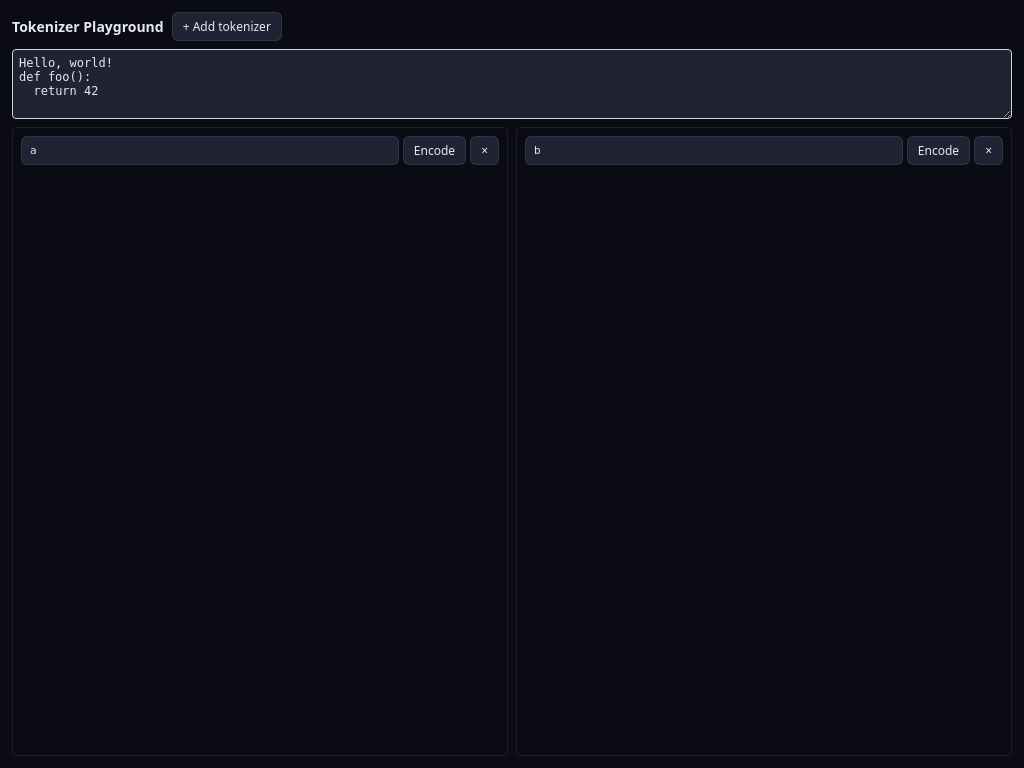
TokenizerPlayground › Remove drops a panel
Click the button with test id "tokenizer-remove-0". click: (485, 150)
box: [470,136,499,165]
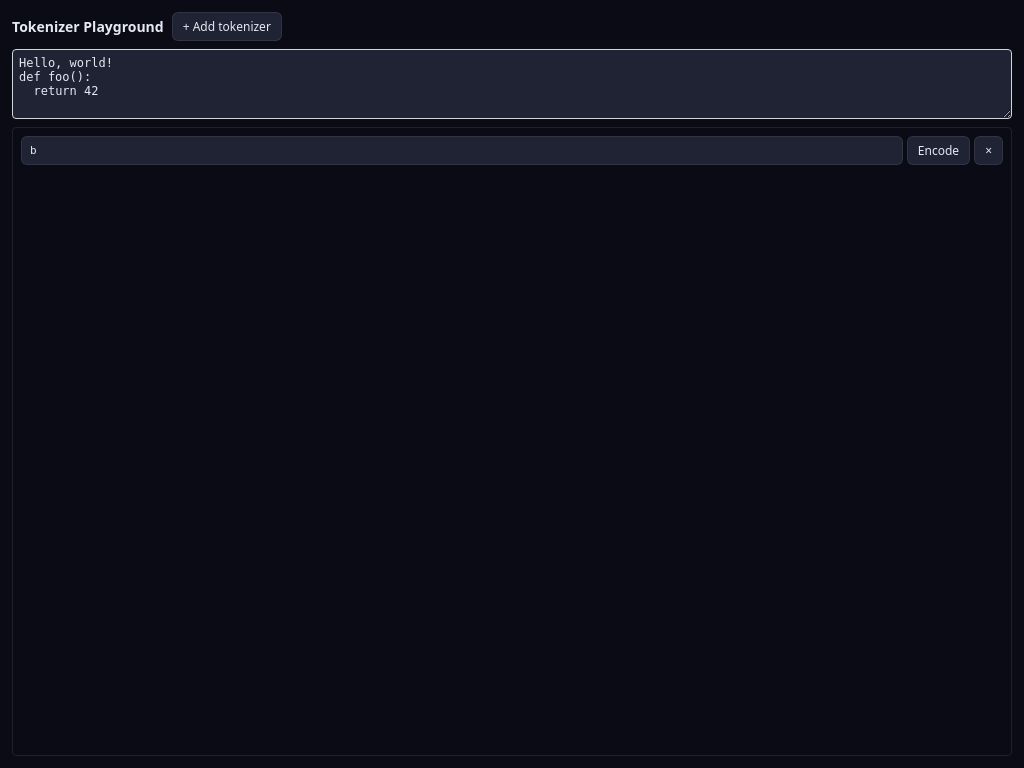
Now the element with test id "tokenizer-panel-1" is gone
